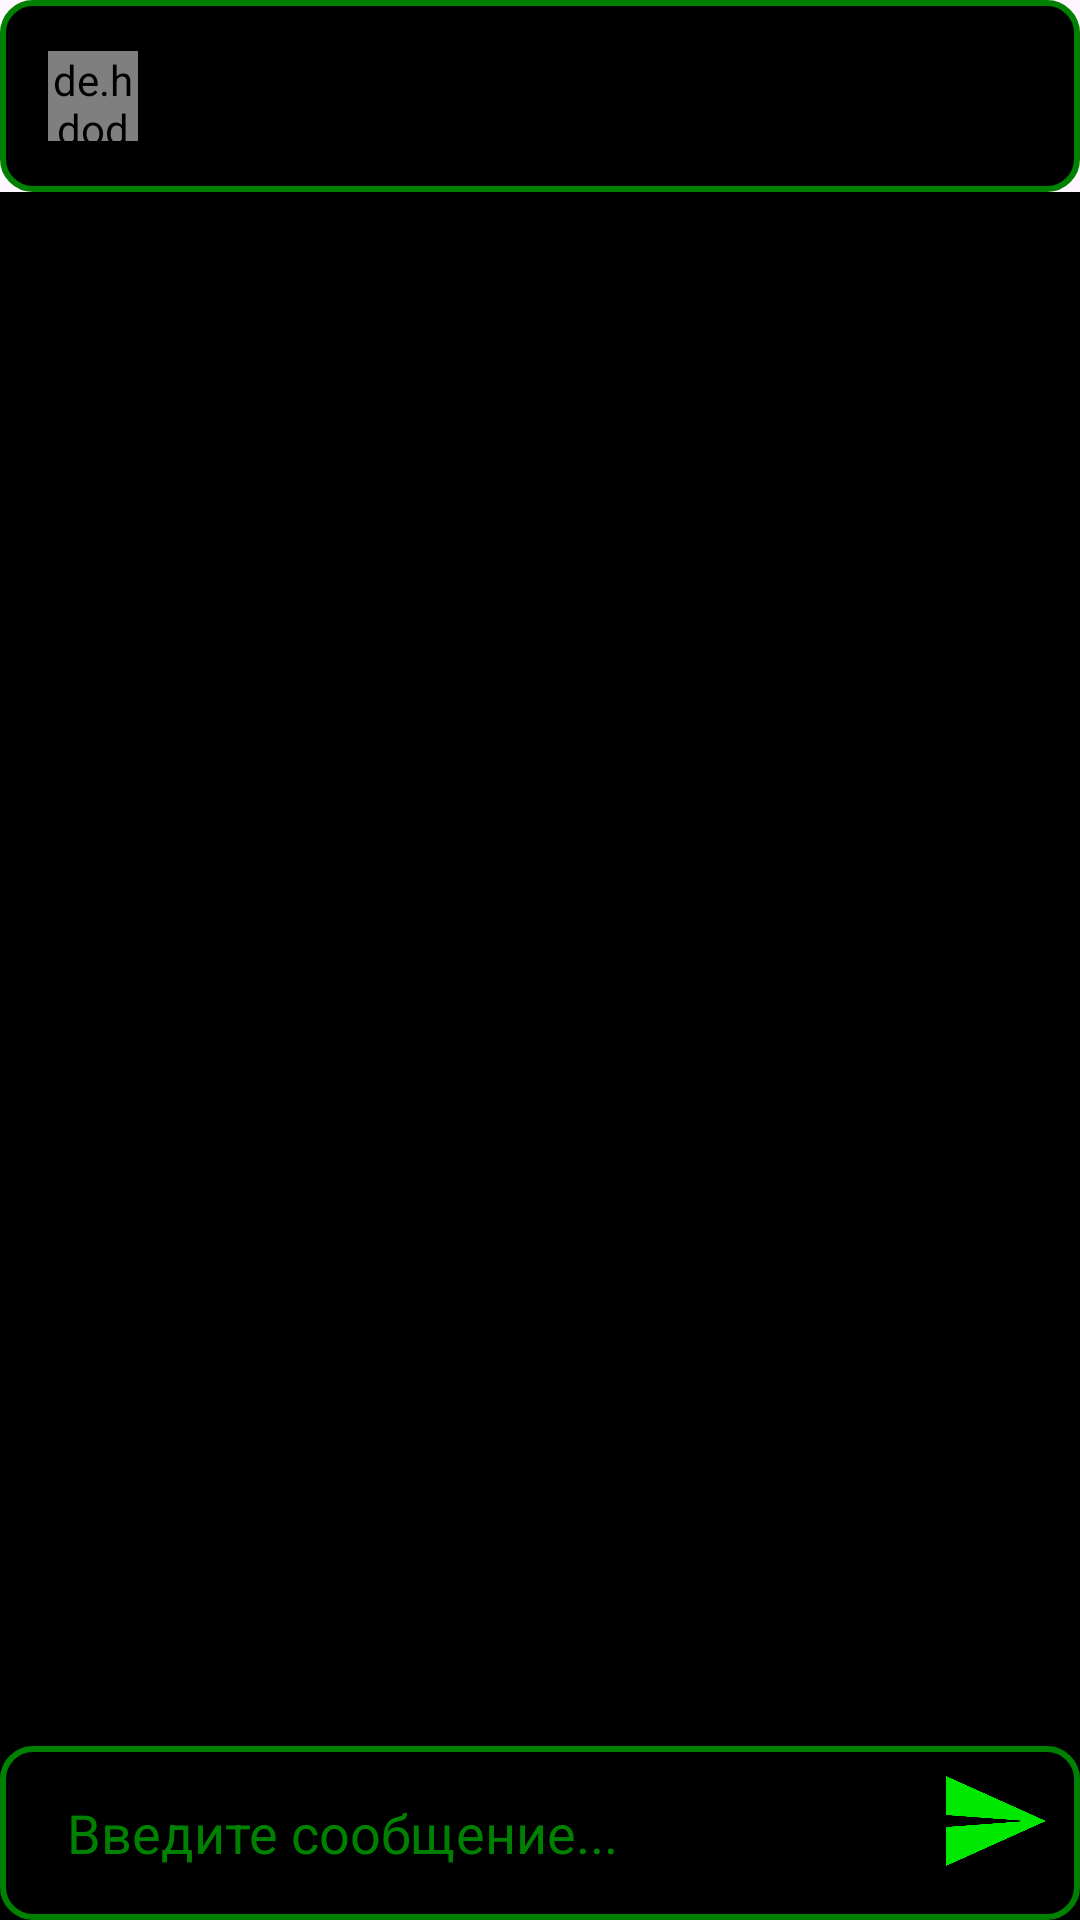

Icons on this 1080×1920 Android screen, each with its box as detection(x1, y1, x2, y2):
Send message: detection(946, 1776, 1045, 1866)
